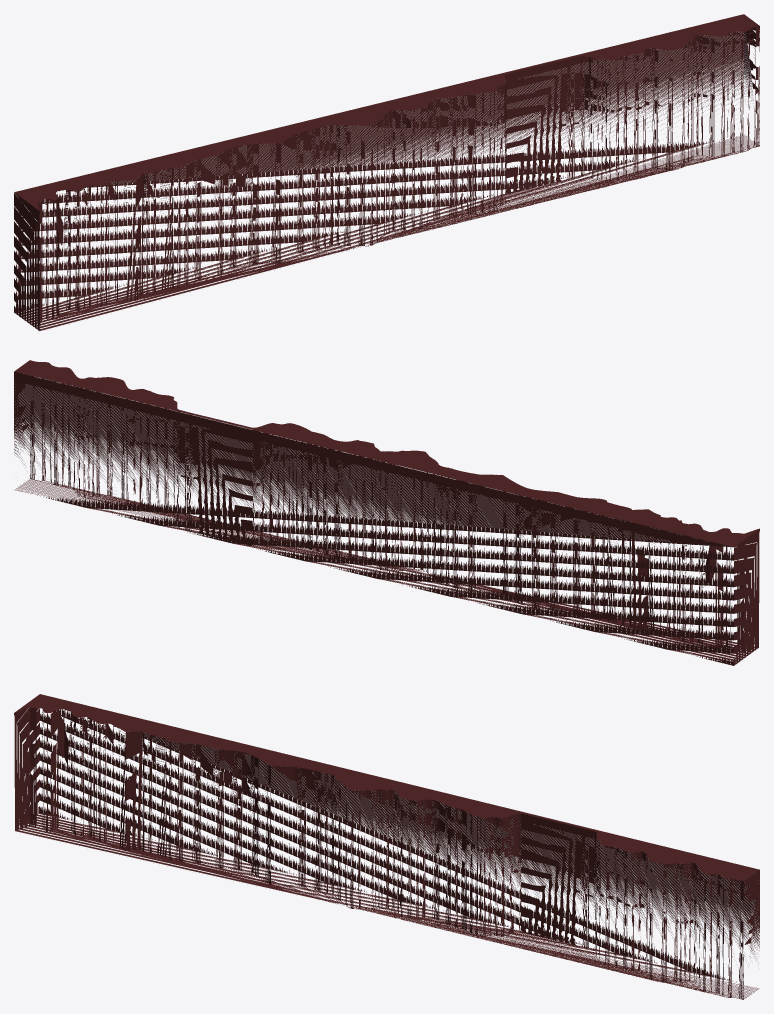
Rendered from Sky.FBX.
3 views of the same model, one above another, from view 1: azimuth 30°, elevation 25°; view 2: azimuth 150°, elevation 25°; view 3: azimuth 330°, elevation 25° (orthographic).
Visible parts, largest first — view 1: Shape1; view 2: Shape1; view 3: Shape1.
Boxes of the visible parts, bbox=[...] form: Shape1: bbox=[14, 14, 759, 330]; Shape1: bbox=[14, 360, 759, 665]; Shape1: bbox=[14, 694, 759, 999].
Size of the model in its own units: 159 by 25 by 9.91.
